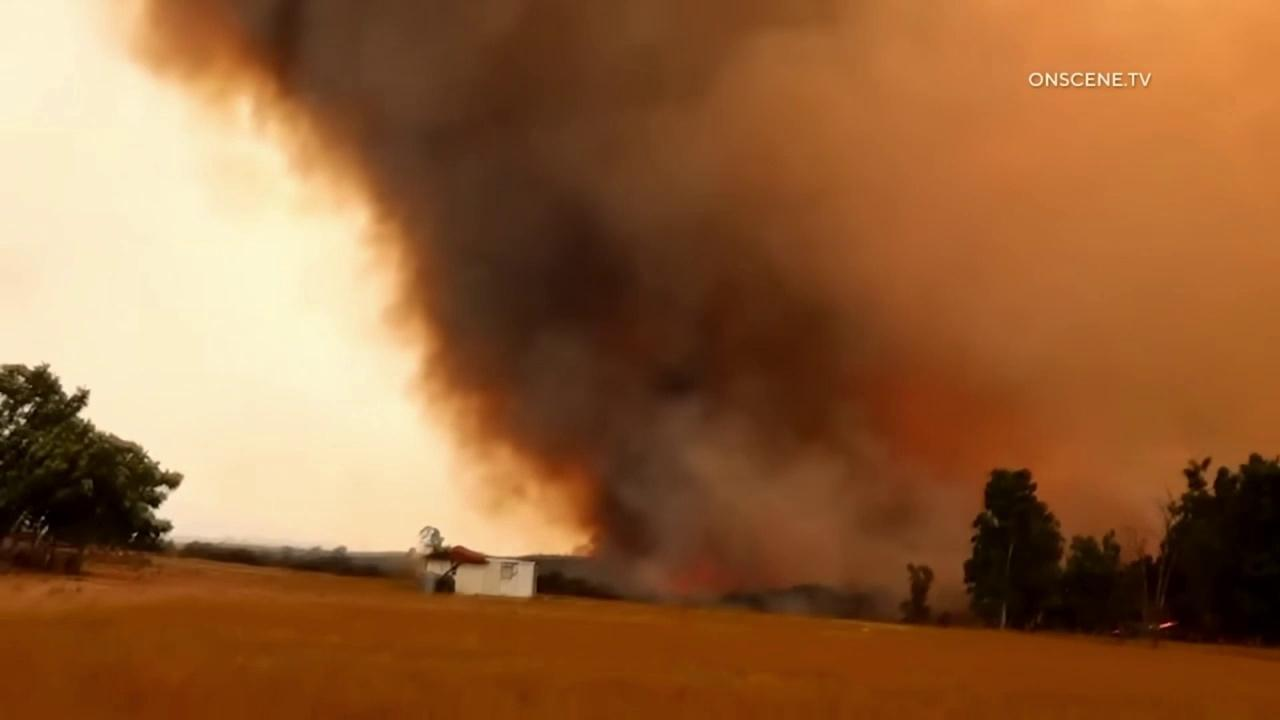fire: (1158, 622, 1179, 628)
smoke: (117, 0, 1280, 623)
